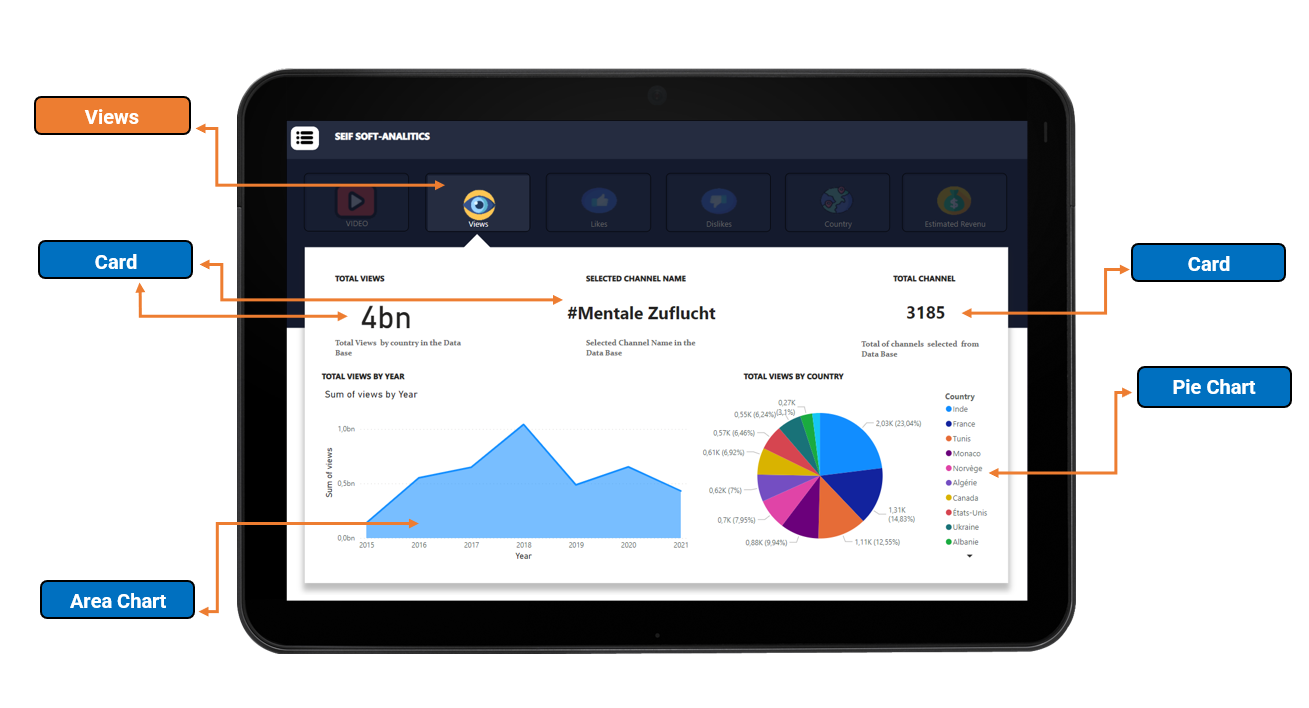

What the dashboard file says about the page in this screenshot:
{"tool":"powerbi","page":{"name":"VIEWS","canvas":[1280,820],"ordinal":1},"visuals":[{"type":"shape","box":[0,0,1279.8,71.5],"z":0},{"type":"shape","box":[0,70.2,1279.8,289.9],"z":1000},{"type":"shape","box":[35.8,221,1208.3,576],"z":2000},{"type":"actionButton","box":[33.7,94,180,100],"z":3000},{"type":"actionButton","box":[242.3,94,180.1,100.9],"z":4000},{"type":"actionButton","box":[449.6,94,180.1,100.9],"z":5000},{"type":"actionButton","box":[656.5,94,180.1,100.9],"z":6000},{"type":"actionButton","box":[860.9,94,180.1,100.9],"z":7000},{"type":"actionButton","box":[1061.4,94,180.1,100.9],"z":8000},{"type":"shape","box":[11.5,13.6,48.5,40.9],"z":9000},{"type":"image","box":[14.1,14.3,43.4,38.3],"z":10000},{"type":"shape","box":[300,198.3,63.6,31.8],"z":11000},{"type":"textbox","box":[82.6,260.6,122,34.3],"z":12000},{"type":"textbox","box":[513.3,260.6,194.5,34.3],"z":13000},{"type":"textbox","box":[1041.2,260.6,133.5,34.3],"z":14000},{"type":"card","fields":{"Values":["Min(Views.channel)"]},"box":[460.2,296.2,307.7,75],"z":15000},{"type":"card","fields":{"Values":["Sum(Views.views)"]},"box":[97.9,296.2,155.1,76.3],"z":16000},{"type":"card","fields":{"Values":["Views.T_channel"]},"box":[1014.5,294.9,175.4,75],"z":17000},{"type":"textbox","box":[59.8,428.4,183.1,34.3],"z":18000},{"type":"textbox","box":[784.4,428.4,320.4,34.3],"z":19000},{"type":"textbox","box":[82.6,14,217.4,34.3],"z":20000},{"type":"textbox","box":[82.6,370,230.1,58.5],"z":21000},{"type":"textbox","box":[469.1,370,230.1,58.5],"z":22000},{"type":"textbox","box":[513.3,370,230.1,58.5],"z":23000},{"type":"textbox","box":[986.5,372.5,230.1,58.5],"z":24000},{"type":"areaChart","fields":{"Category":["Views.DATE.Variation.Date Hierarchy.Year","Views.DATE.Variation.Date Hierarchy.Month"],"Y":["Sum(Views.views)"]},"box":[64.8,462.8,634.4,301.3],"z":25000},{"type":"pieChart","fields":{"Y":["CountNonNull(Views.views)"],"Category":["Views.Country"]},"box":[700.4,462.8,521.9,300.8],"z":26000}]}

Visuals, with their boxes on the page's 1280x820 design canvas (x1, y1, x2, y2). These are canvas units, not pixel positions in the 1309x708 screenshot, which may show the page scaled, cropped or inside an application window:
shape: rect(0, 0, 1280, 72)
shape: rect(0, 70, 1280, 360)
shape: rect(36, 221, 1244, 797)
actionButton: rect(34, 94, 214, 194)
actionButton: rect(242, 94, 422, 195)
actionButton: rect(450, 94, 630, 195)
actionButton: rect(656, 94, 837, 195)
actionButton: rect(861, 94, 1041, 195)
actionButton: rect(1061, 94, 1242, 195)
shape: rect(12, 14, 60, 54)
image: rect(14, 14, 58, 53)
shape: rect(300, 198, 364, 230)
textbox: rect(83, 261, 205, 295)
textbox: rect(513, 261, 708, 295)
textbox: rect(1041, 261, 1175, 295)
card - Min(Views.channel): rect(460, 296, 768, 371)
card - Sum(Views.views): rect(98, 296, 253, 372)
card - Views.T_channel: rect(1014, 295, 1190, 370)
textbox: rect(60, 428, 243, 463)
textbox: rect(784, 428, 1105, 463)
textbox: rect(83, 14, 300, 48)
textbox: rect(83, 370, 313, 428)
textbox: rect(469, 370, 699, 428)
textbox: rect(513, 370, 743, 428)
textbox: rect(986, 372, 1217, 431)
areaChart - Views.DATE.Variation.Date Hierarchy.Year x Views.DATE.Variation.Date Hierarchy.Month: rect(65, 463, 699, 764)
pieChart - CountNonNull(Views.views) x Views.Country: rect(700, 463, 1222, 764)
